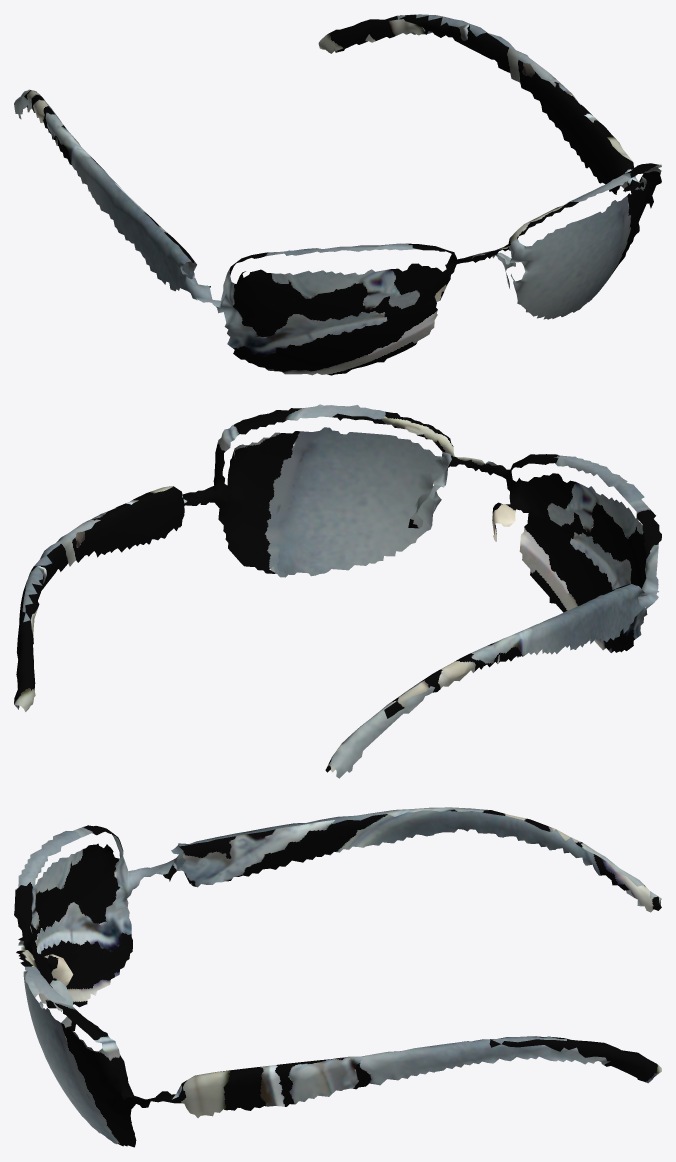
File: scan_align.obj
3 renders of one model, top to bottom at view 1: azimuth 30°, elevation 25°; view 2: azimuth 150°, elevation 25°; view 3: azimuth 270°, elevation 25°, orthographic. The views are drawn at different scales.
Size of the model in its own units: 0.1364 by 0.0411 by 0.16.
